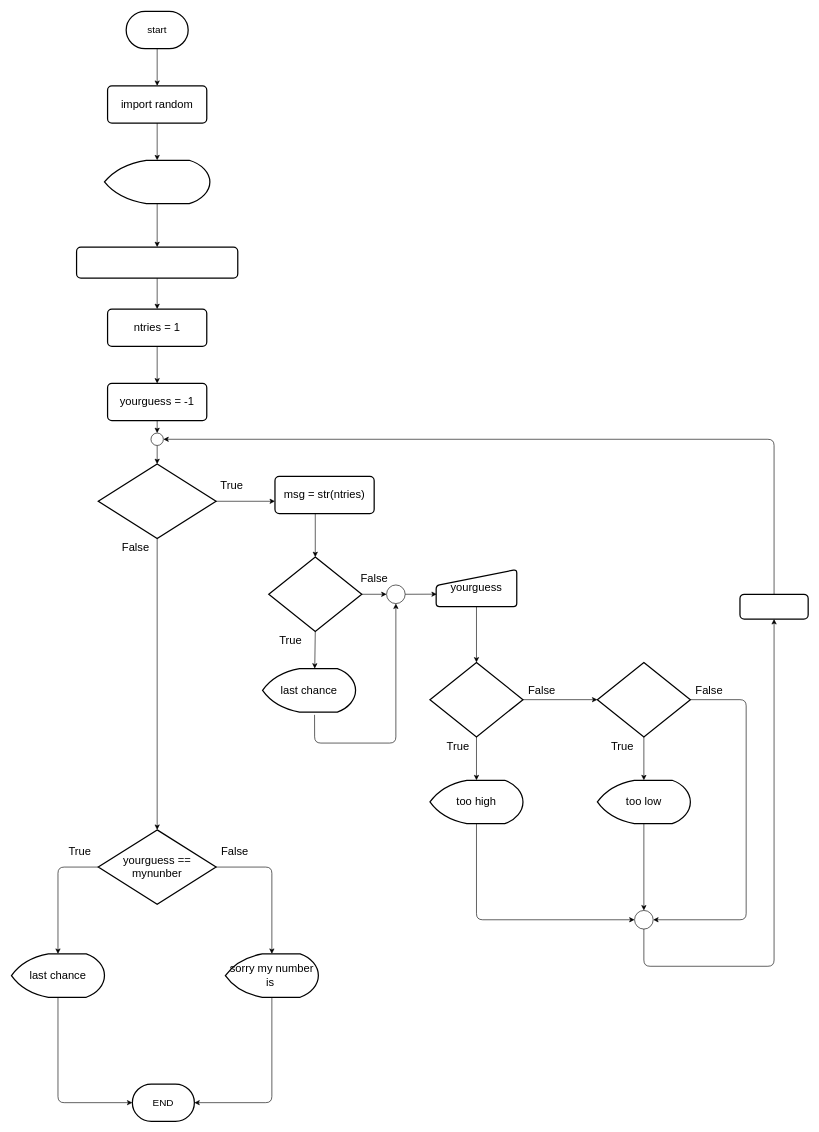
The diagram is 819 pixels wide and 1132 high, and some of its shapes have lost their labels. The shapes that lost their labels are listed below. From the top down, each one's box as (x1, y1, x2, y2) in pixels, then its label:
(104, 159, 210, 204): what is my magic number (1 to 100)
(76, 246, 238, 278): mynumber = random.randint(1,100)
(97, 463, 216, 539): ntries < 7 and ntries != mynumber
(268, 556, 362, 632): ntries == 6
(739, 593, 808, 619): ntries +=1
(429, 662, 523, 737): yourguess > mynumber
(596, 662, 691, 737): yourguess < mynumber
